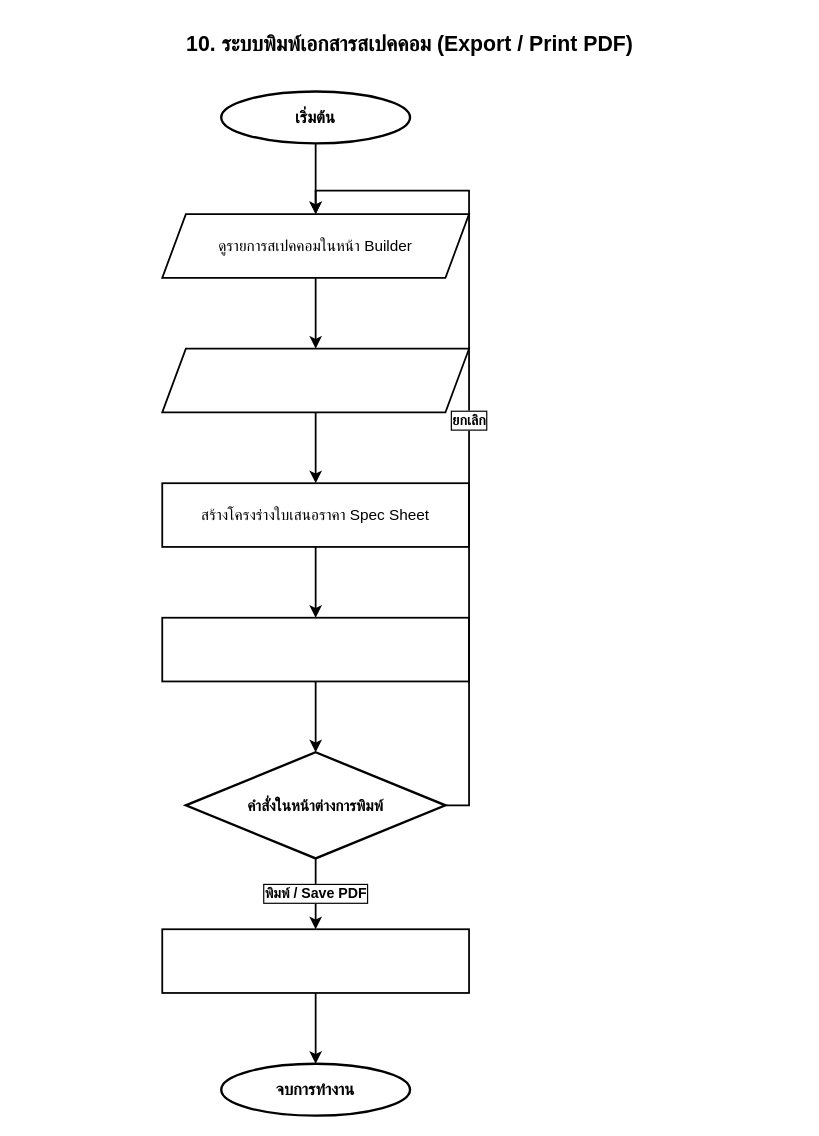
This 819x1136 diagram has some shape labels left out. Here are the shapes that lost their labels. From the top down, the box of each, then its label:
(161, 347, 469, 413): กดปุ่มพิมพ์เอกสาร / Export PDF
(161, 616, 469, 682): เรียกใช้คำสั่ง window.print()
(161, 928, 469, 993): พิมพ์เอกสารหรือบันทึกไฟล์ PDF
